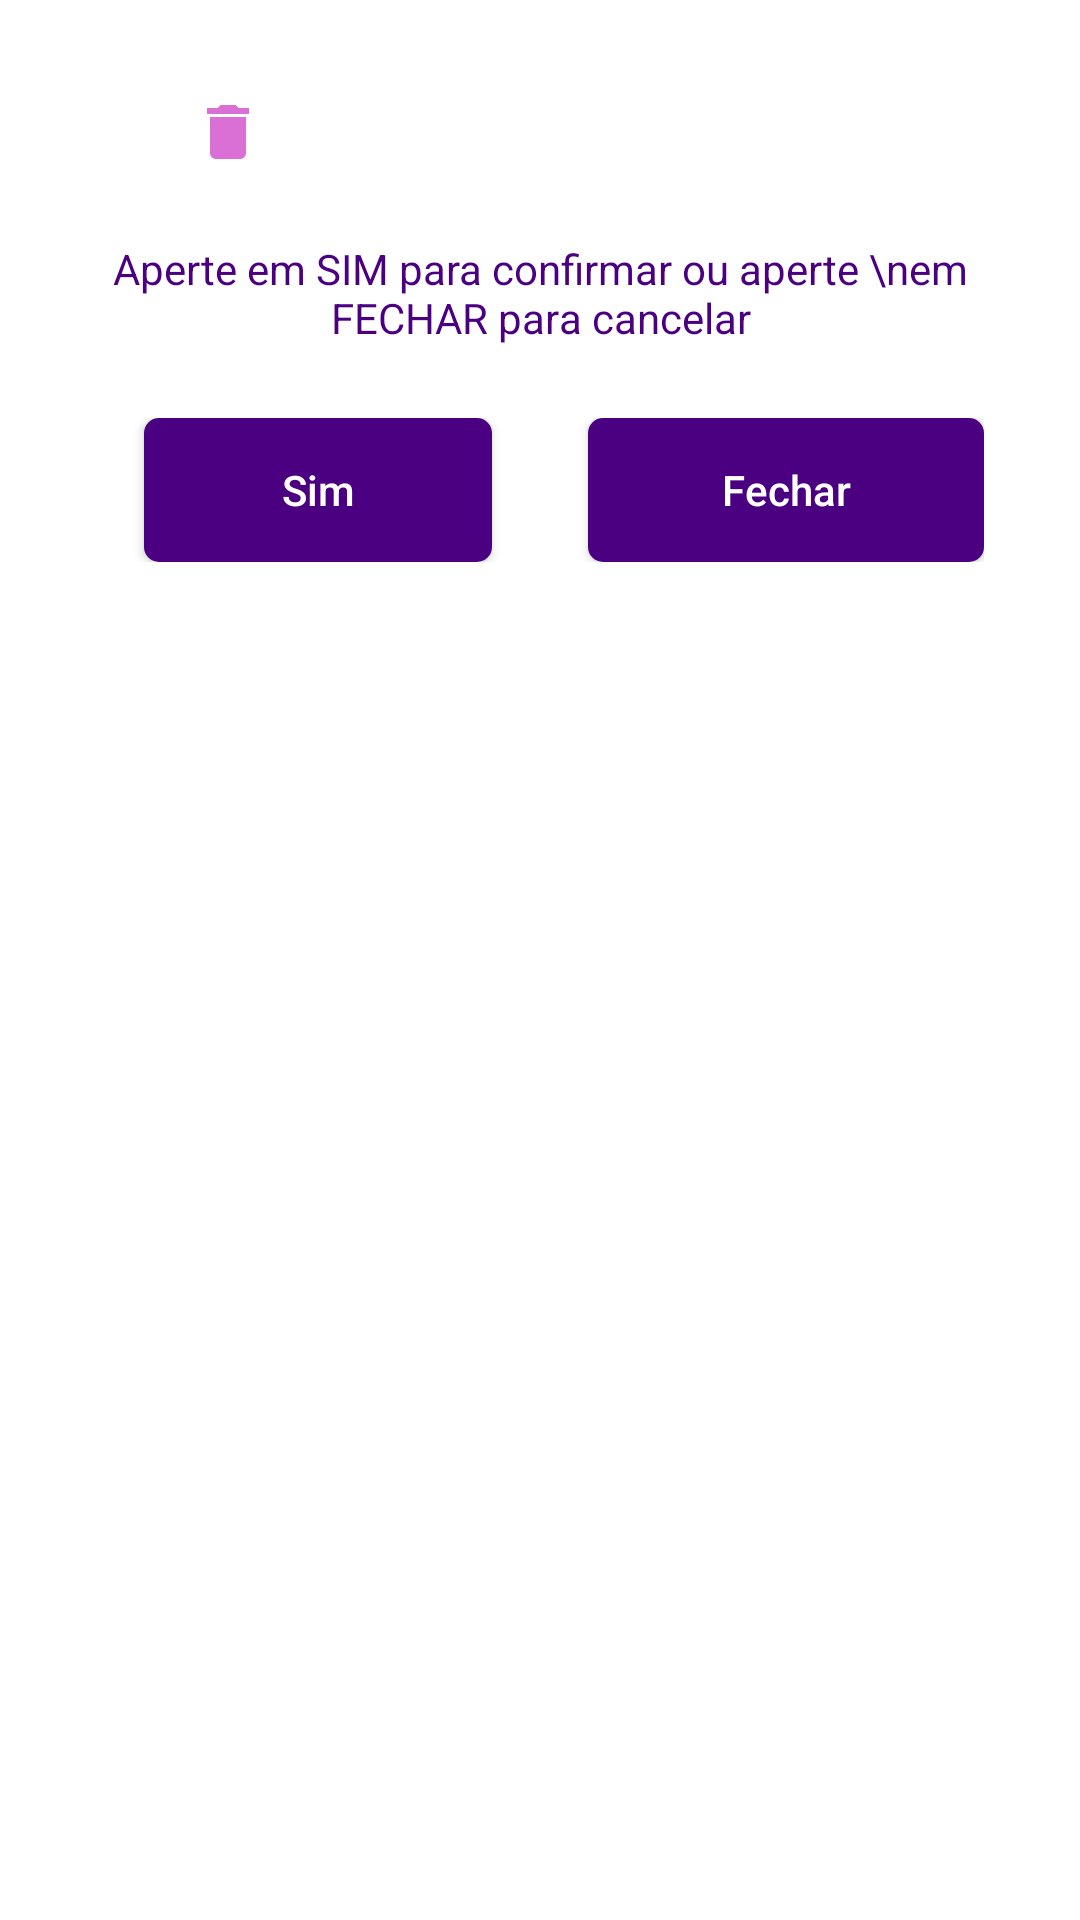

Screen size 1080*1920. Icon name, then its box in pixels as (x1, y1, x2, y2):
delete: (207, 105, 249, 159)
